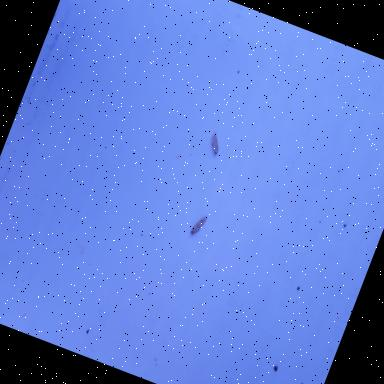pbw: (189, 214, 207, 238), (206, 132, 224, 156)
